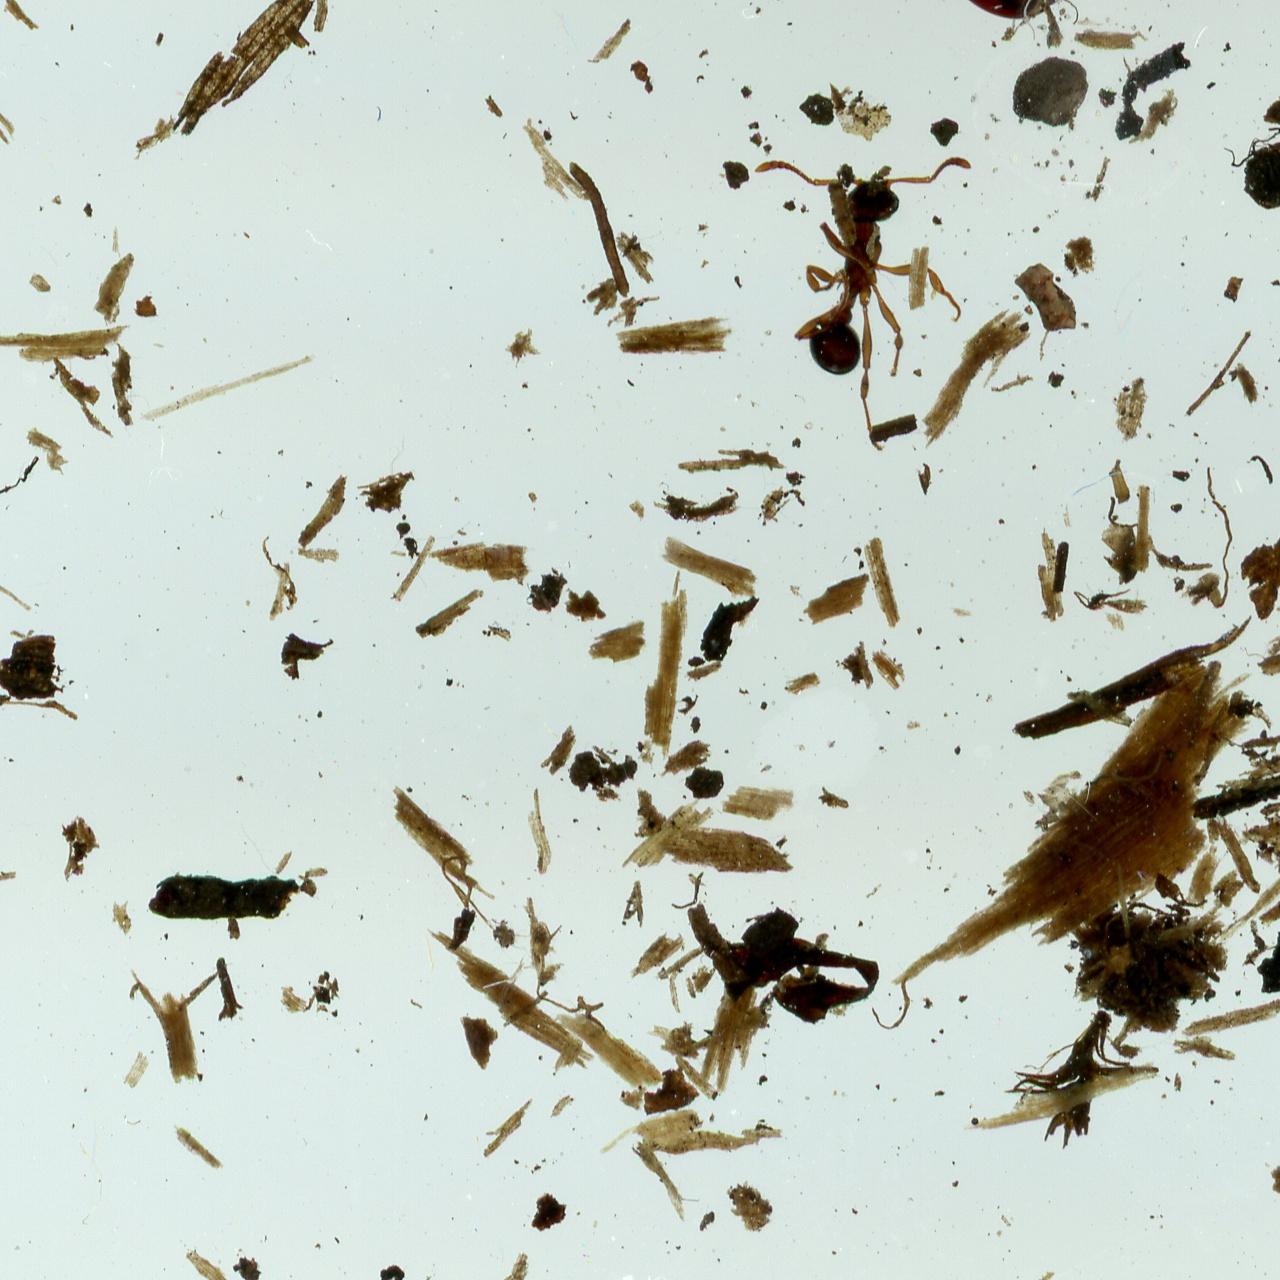arthropod: (751, 154, 978, 456), (867, 0, 1104, 59)
